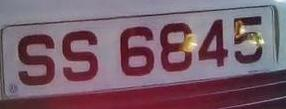4: (195, 12, 232, 74)
5: (229, 13, 266, 70)
6: (115, 18, 157, 82)
8: (156, 17, 197, 75)
S: (56, 25, 105, 87), (15, 29, 62, 91)
